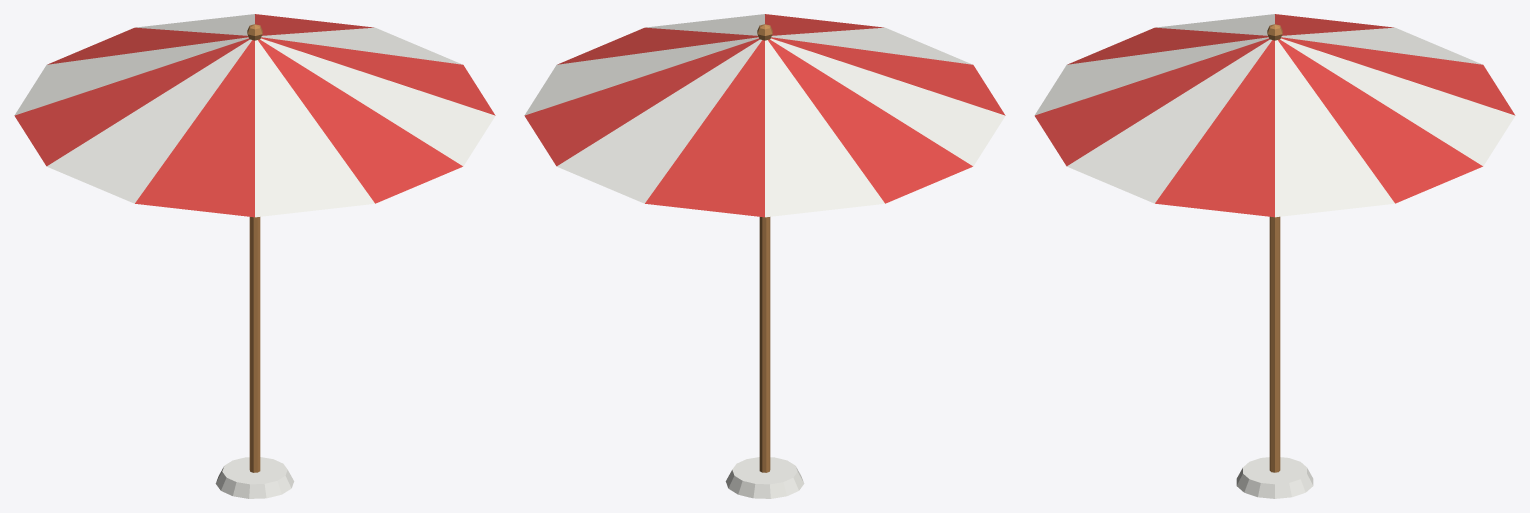
The model's file is parasol.obj.
3 views of the same model, side by side, from view 1: azimuth 30°, elevation 25°; view 2: azimuth 150°, elevation 25°; view 3: azimuth 270°, elevation 25° (orthographic).
Visible parts, largest first — view 1: parasol; view 2: parasol; view 3: parasol.
Part boxes in pixels (x1,y1,x2,y2): parasol: (14,14,495,498); parasol: (524,14,1005,498); parasol: (1034,14,1515,498).
Bounding box in the file's own units: 2.2 × 2.31 × 2.2.
